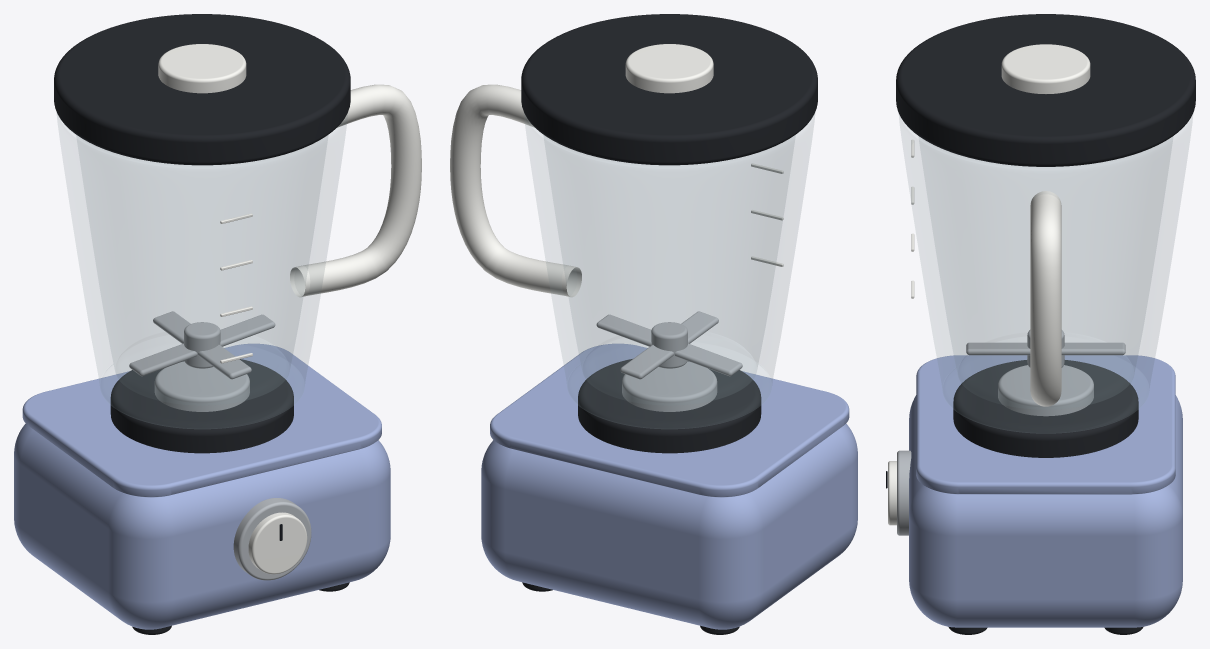
File: countertop-blender.glb
3 renders of one model, left to right at view 1: azimuth 30°, elevation 25°; view 2: azimuth 150°, elevation 25°; view 3: azimuth 270°, elevation 25°, orthographic.
Parts seen in each view (by area): view 1: double-walled-blender-pitcher, closed-rounded-blender-motor-base, sealed-lid-021, fitted-blender-base-top, drive-collar-010, glass-jar-013, sealed-lid-022, drive-collar-011, rounded-motor-enclosure-007, rounded-motor-enclosure-006, blade-assembly-019, blade-assembly-020 (+1 smaller); view 2: double-walled-blender-pitcher, closed-rounded-blender-motor-base, sealed-lid-021, fitted-blender-base-top, drive-collar-010, glass-jar-013, sealed-lid-022, drive-collar-011, blade-assembly-019, blade-assembly-020, blade-assembly-018; view 3: double-walled-blender-pitcher, closed-rounded-blender-motor-base, sealed-lid-021, fitted-blender-base-top, drive-collar-010, glass-jar-013, sealed-lid-022, drive-collar-011, blade-assembly-020, rounded-motor-enclosure-006, rounded-motor-enclosure-007.
Boxes of the visible parts, bbox=[...] form: double-walled-blender-pitcher: bbox=[57, 114, 347, 428]; closed-rounded-blender-motor-base: bbox=[14, 423, 390, 629]; sealed-lid-021: bbox=[54, 14, 350, 165]; fitted-blender-base-top: bbox=[22, 343, 381, 497]; drive-collar-010: bbox=[110, 359, 293, 453]; glass-jar-013: bbox=[290, 84, 421, 297]; sealed-lid-022: bbox=[158, 44, 246, 93]; drive-collar-011: bbox=[154, 361, 249, 411]; rounded-motor-enclosure-007: bbox=[248, 512, 307, 574]; rounded-motor-enclosure-006: bbox=[233, 498, 311, 580]; blade-assembly-019: bbox=[129, 314, 275, 376]; blade-assembly-020: bbox=[153, 311, 251, 379]; double-walled-blender-pitcher: bbox=[524, 114, 814, 428]; closed-rounded-blender-motor-base: bbox=[481, 423, 857, 629]; sealed-lid-021: bbox=[521, 14, 817, 165]; fitted-blender-base-top: bbox=[490, 343, 849, 497]; drive-collar-010: bbox=[578, 359, 761, 453]; glass-jar-013: bbox=[450, 84, 581, 297]; sealed-lid-022: bbox=[625, 44, 713, 93]; drive-collar-011: bbox=[622, 361, 717, 411]; blade-assembly-019: bbox=[596, 314, 742, 376]; blade-assembly-020: bbox=[620, 311, 718, 379]; blade-assembly-018: bbox=[651, 322, 687, 368]; double-walled-blender-pitcher: bbox=[899, 115, 1192, 432]; closed-rounded-blender-motor-base: bbox=[909, 395, 1182, 627]; sealed-lid-021: bbox=[896, 14, 1195, 166]; fitted-blender-base-top: bbox=[916, 355, 1175, 494]; drive-collar-010: bbox=[953, 360, 1138, 457]; glass-jar-013: bbox=[1030, 191, 1061, 406]; sealed-lid-022: bbox=[1001, 44, 1090, 93]; drive-collar-011: bbox=[998, 365, 1093, 416]; blade-assembly-020: bbox=[966, 342, 1125, 355]; rounded-motor-enclosure-006: bbox=[897, 450, 911, 535]; rounded-motor-enclosure-007: bbox=[888, 461, 896, 525].
Bounding box in the file's own units: 1.44 × 2 × 1.08.
